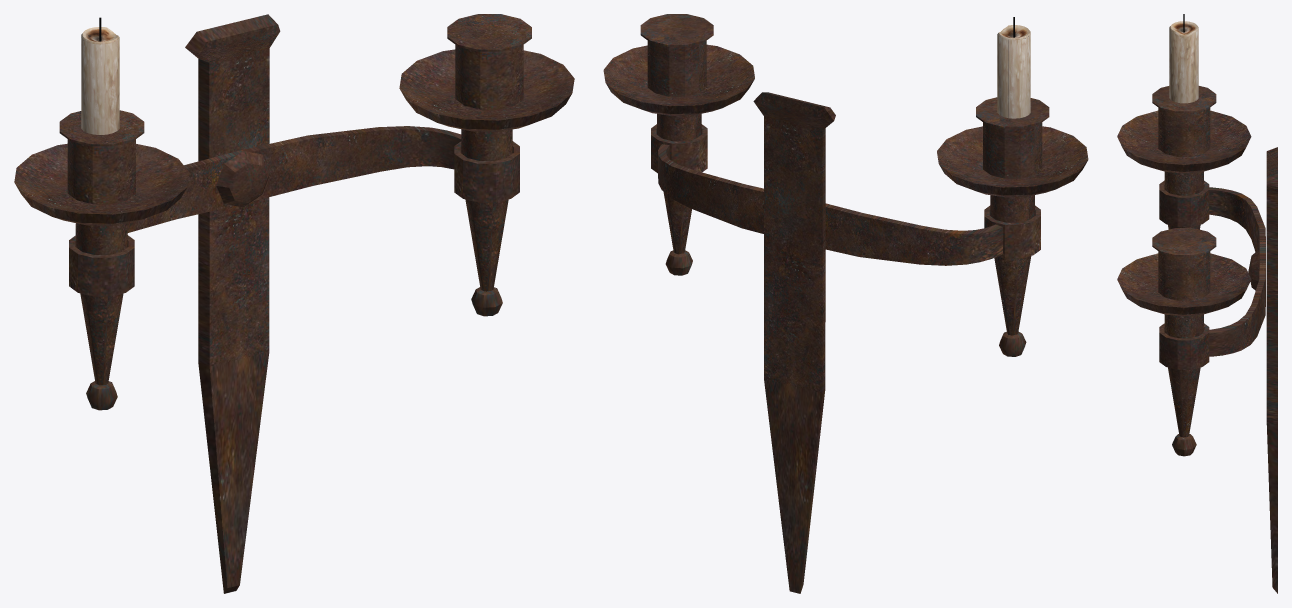
File: Candle 1.FBX
3 views of the same model, side by side, from view 1: azimuth 30°, elevation 25°; view 2: azimuth 150°, elevation 25°; view 3: azimuth 270°, elevation 25° (orthographic). The views are drawn at different scales.
Visible parts, largest first — view 1: Candle 1; view 2: Candle 1; view 3: Candle 1.
Boxes of the visible parts, bbox=[...] form: Candle 1: bbox=[14, 14, 574, 593]; Candle 1: bbox=[603, 14, 1088, 593]; Candle 1: bbox=[1117, 14, 1277, 593].
Bounding box in the file's own units: 39.13 × 46.3 × 13.32.
Materials: 2 (2 with a texture image).
